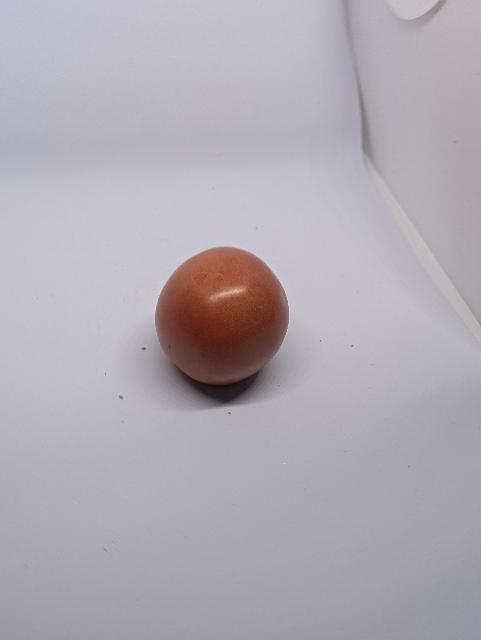red: (153, 245, 294, 394)
